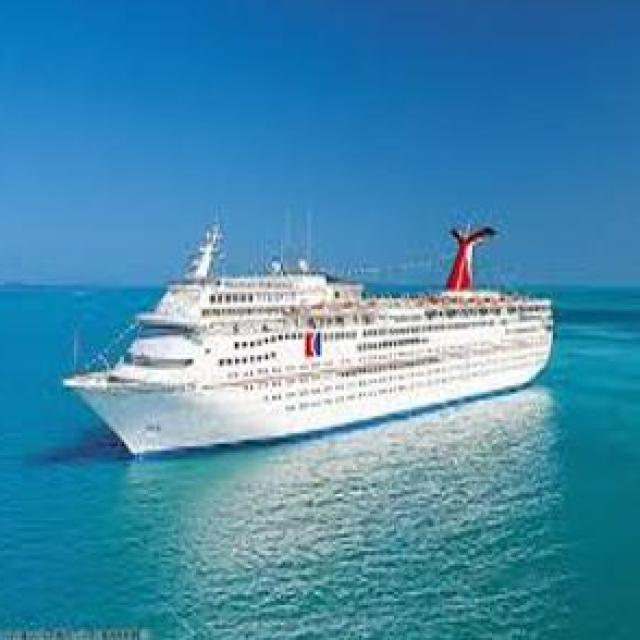passenger ship: (65, 222, 564, 457)
